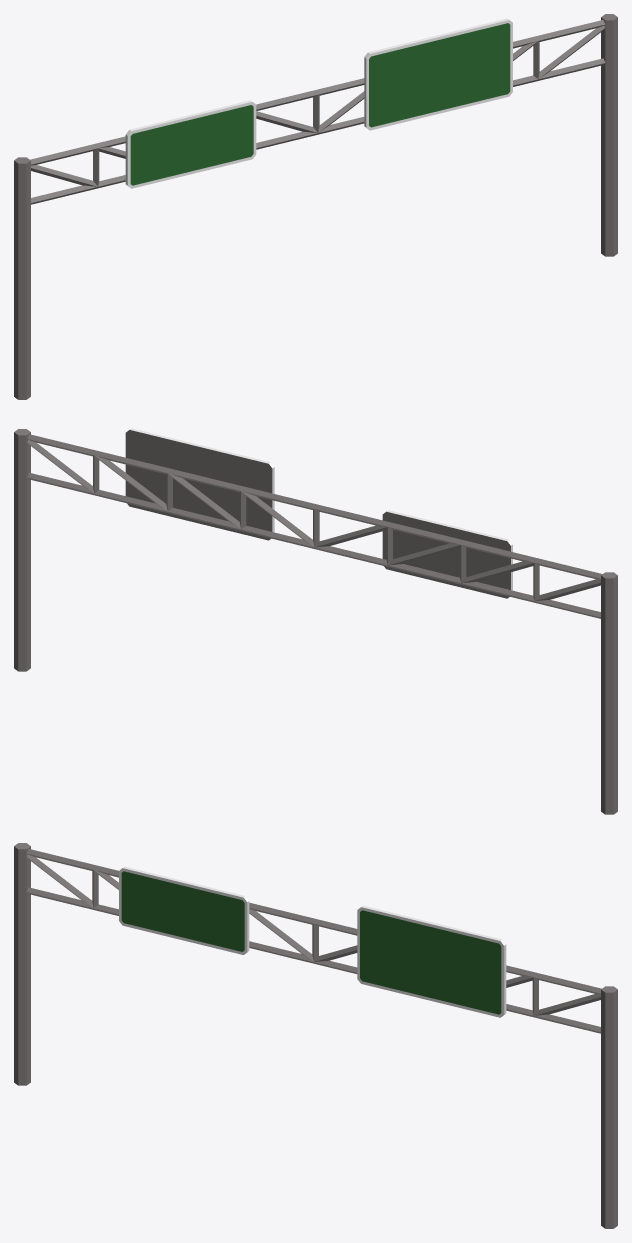
File: mainroad-sign-green.fbx
The picture shows the model from 3 angles, top to bottom: view 1: azimuth 30°, elevation 25°; view 2: azimuth 150°, elevation 25°; view 3: azimuth 330°, elevation 25°; orthographic projection.
Parts seen in each view (by area): view 1: mainroad-sign-green; view 2: mainroad-sign-green; view 3: mainroad-sign-green.
Part boxes in pixels (<box>): mainroad-sign-green: <box>14,14,617,399</box>; mainroad-sign-green: <box>14,428,617,814</box>; mainroad-sign-green: <box>14,843,617,1228</box>.
Bounding box in the file's own units: 16.35 × 6.83 × 0.4106.
